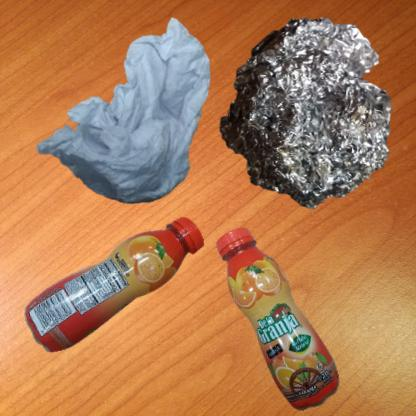aluminio: (213, 10, 400, 216)
botella: (10, 213, 252, 376), (213, 213, 363, 416)
papel: (10, 10, 262, 246)
